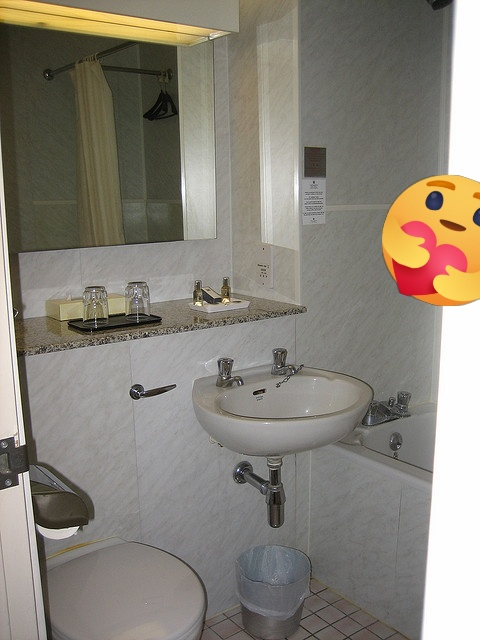care: (382, 175, 480, 306)
